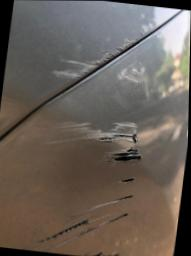Bumper: (18, 12, 190, 256)
